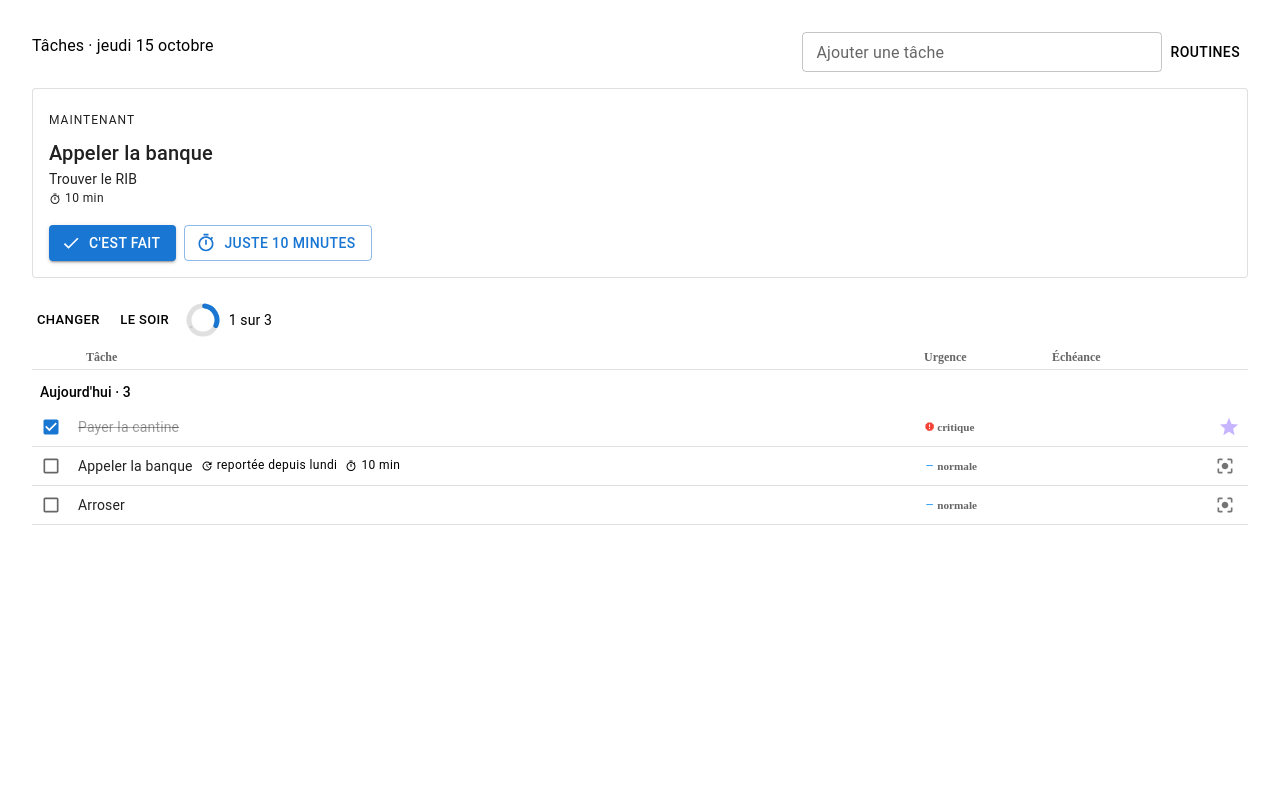
Test: TaskBoard › « Aujourd'hui » — the day of five (MAG-497) › the Focus (MAG-499) › « Plus tard » keeps the done slots where they are
Expected: the element "Maintenant" is shown, [32, 88, 1248, 278]
Click the button "Juste 10 minutes". click: coordinates (278, 243)
box: [184, 225, 372, 261]
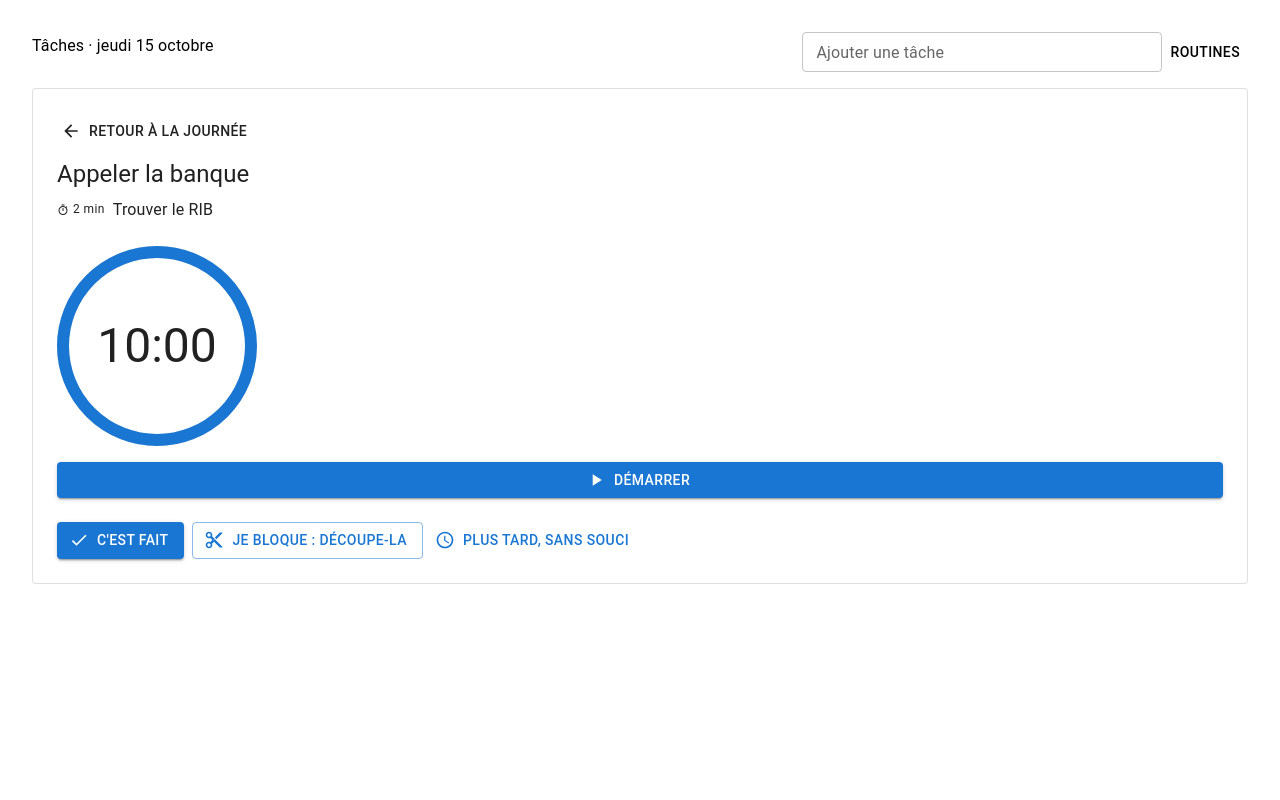
Click the button "Plus tard, sans souci". click: coordinates (534, 540)
box: [431, 522, 637, 558]
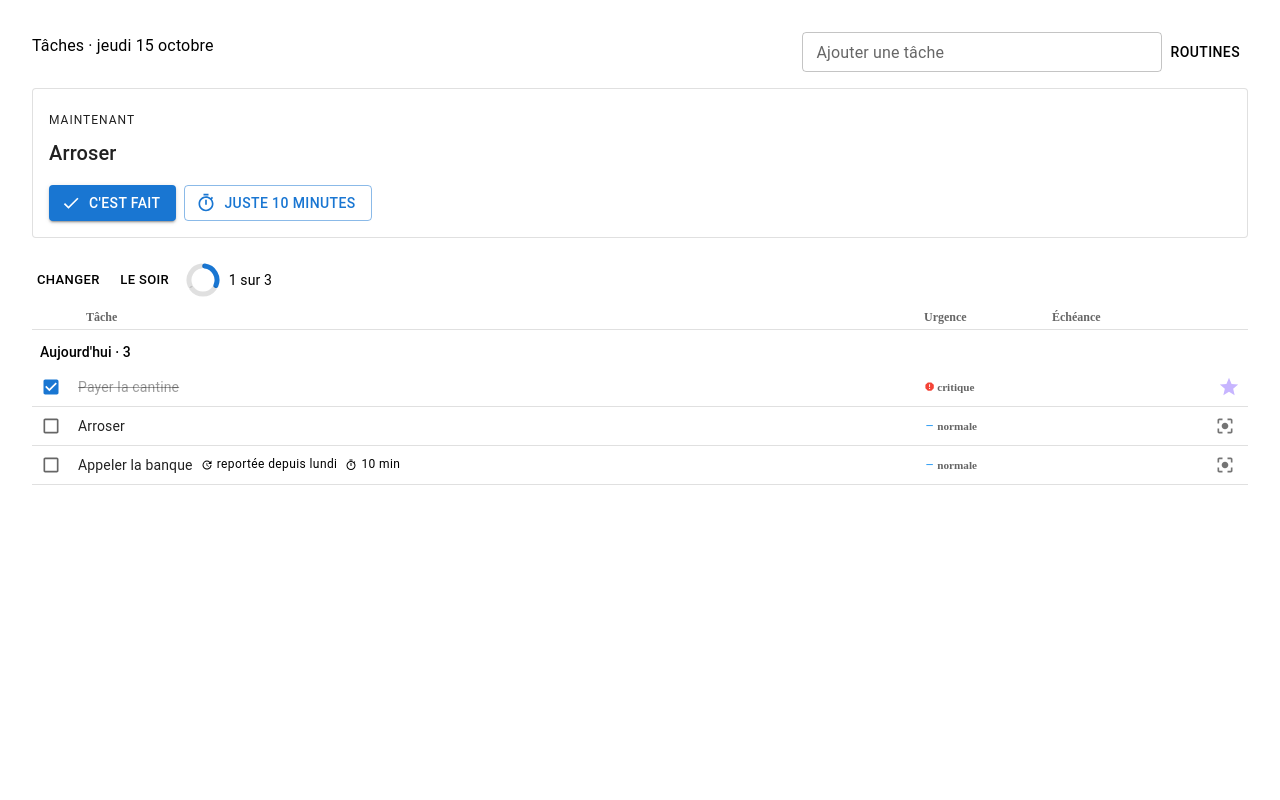
Expected: the element "Maintenant" shows "Arroser", [49, 141, 117, 165]
